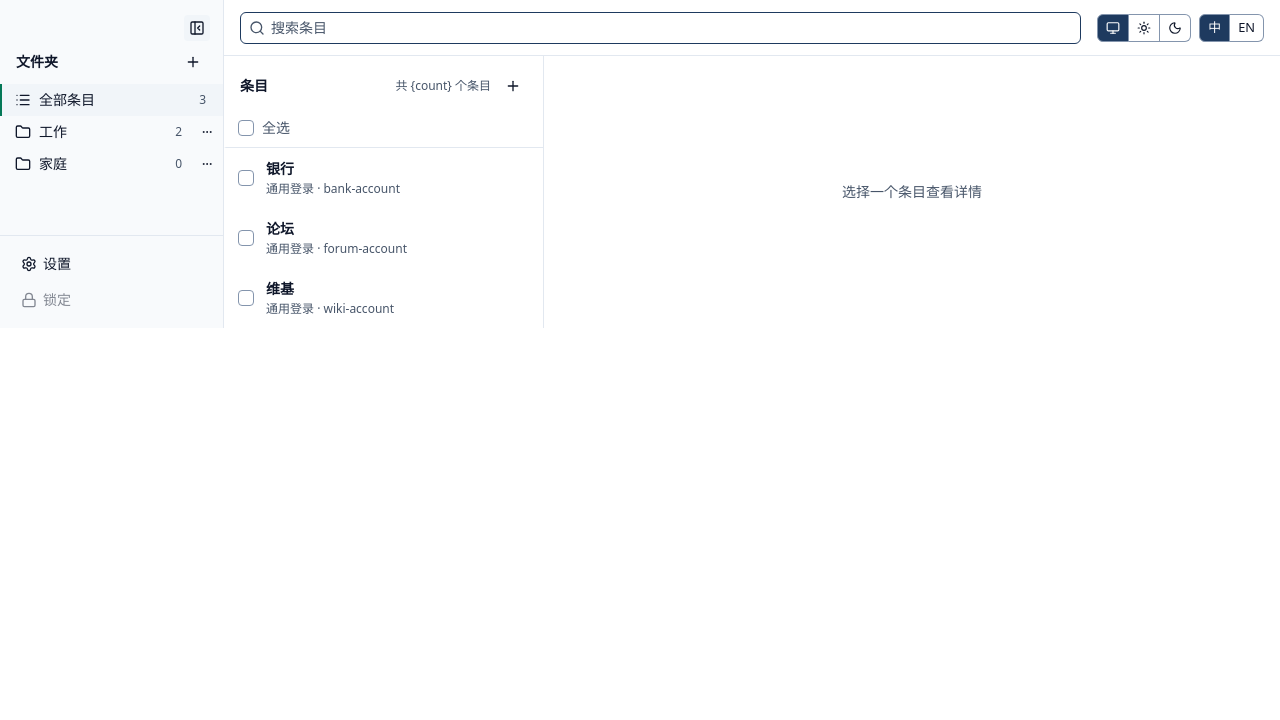
Scenario: 新建文件夹与校验 › 名称为空时提示请填写名称, 不创建
Click the button named "新建文件夹". click: (193, 62)
box: x1=179 y1=48 x2=207 y2=76
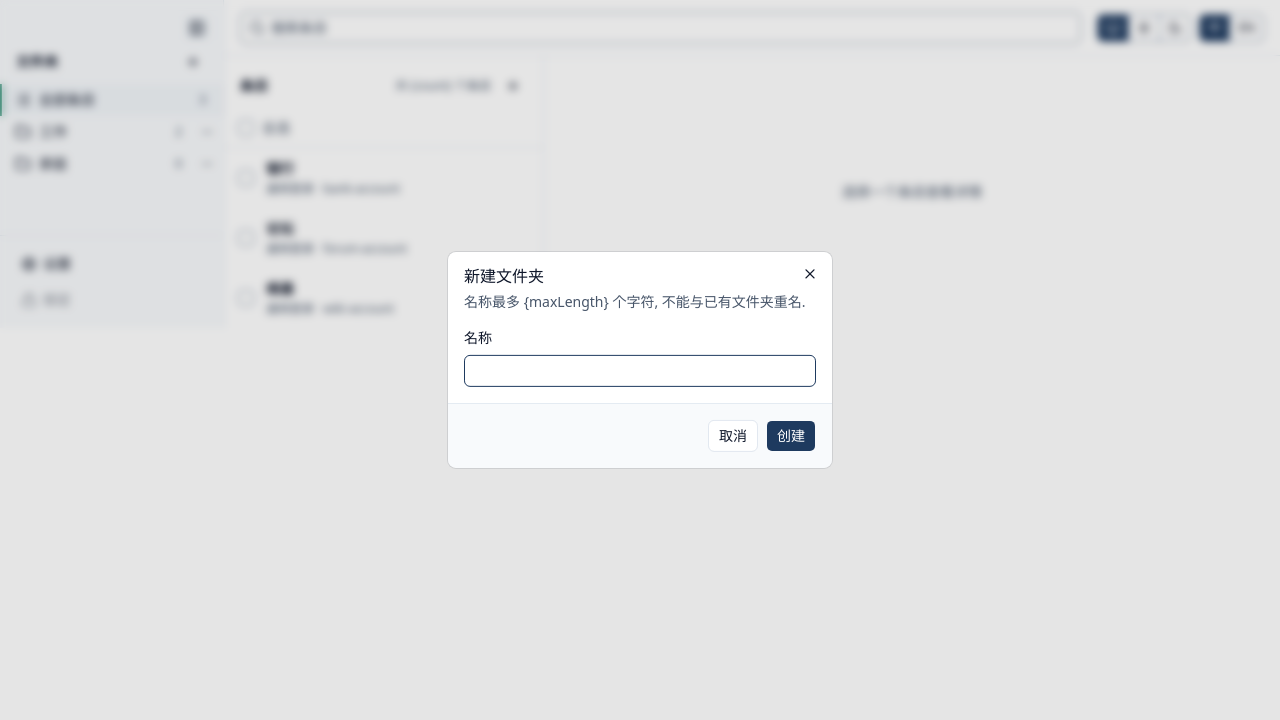
Click the button "创建". click: (791, 436)
box: x1=766 y1=420 x2=816 y2=452
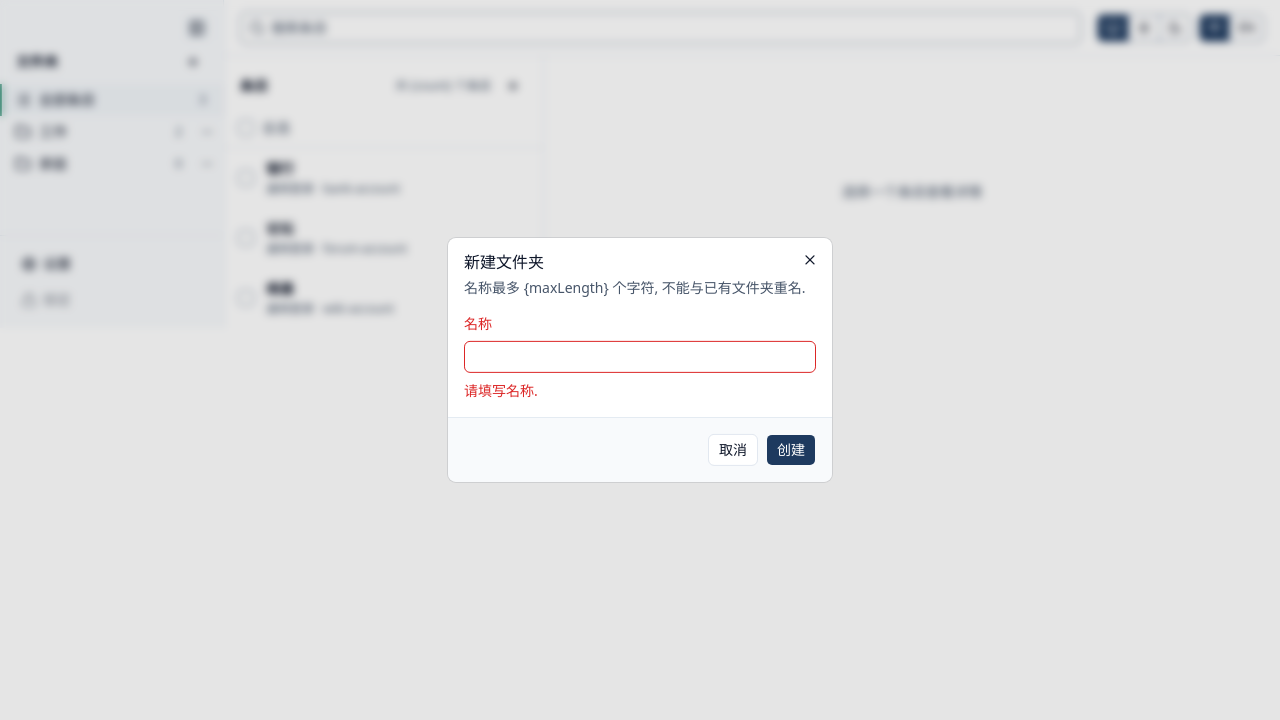
Result: the text "请填写名称." is shown at x1=464 y1=381 x2=538 y2=400
